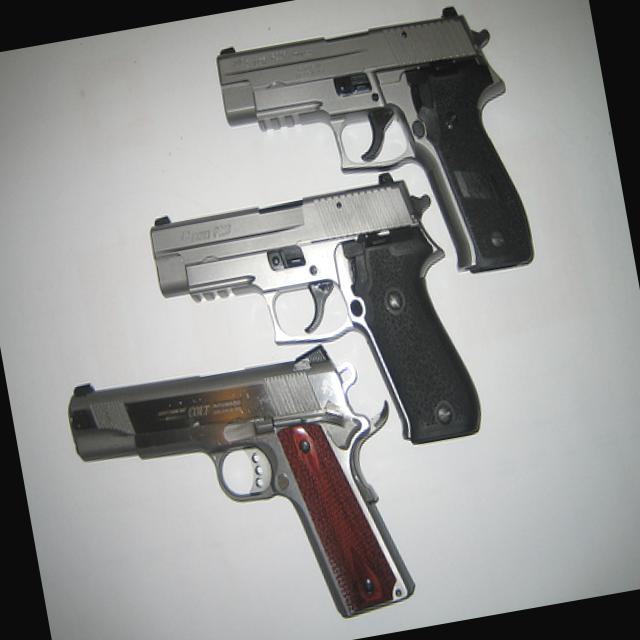handgun: (62, 329, 421, 639), (145, 162, 482, 485), (209, 0, 539, 312)
